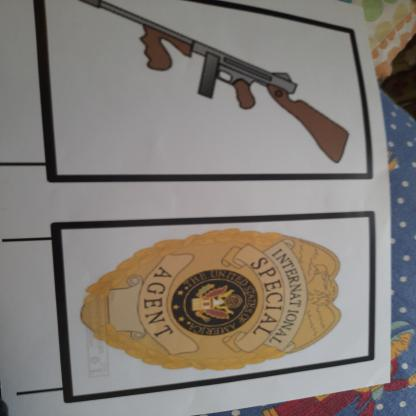Bootlegger: (57, 1, 365, 170)
G-man: (64, 225, 355, 379)
